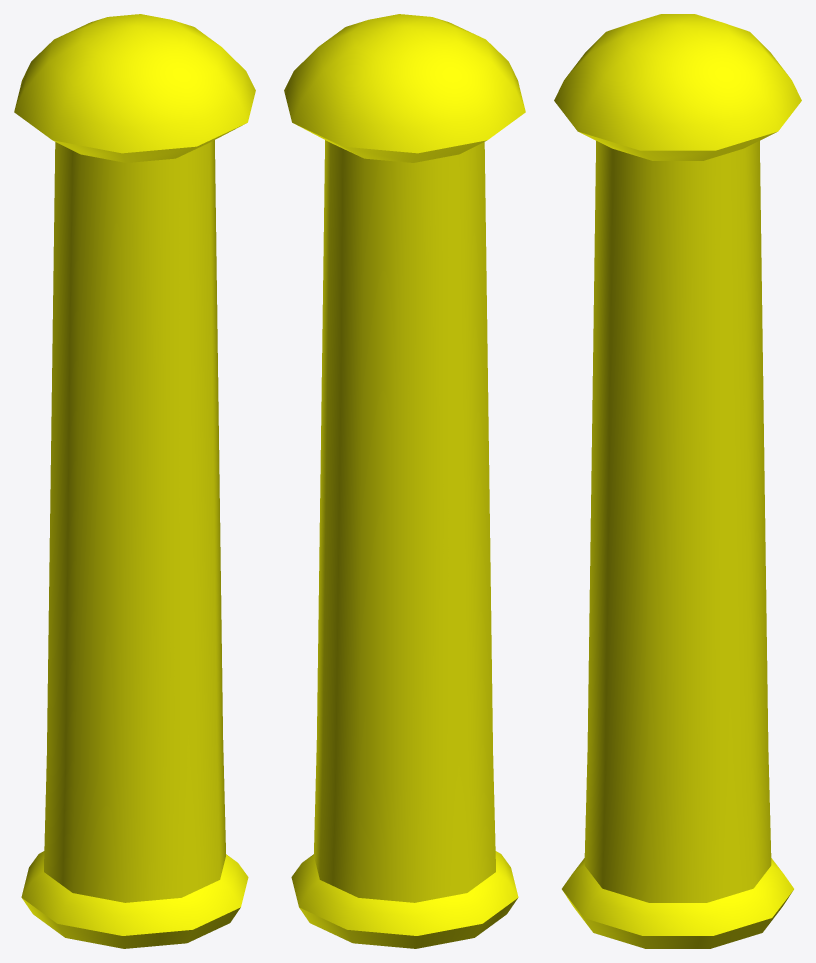
File: prop-bollard.glb
The picture shows the model from 3 angles, left to right: view 1: azimuth 30°, elevation 25°; view 2: azimuth 150°, elevation 25°; view 3: azimuth 270°, elevation 25°; orthographic projection.
Visible parts, largest first — view 1: Prop_Bollard; view 2: Prop_Bollard; view 3: Prop_Bollard.
Boxes of the visible parts, x1,y1,x2,y2 form: Prop_Bollard: (14, 14, 255, 948); Prop_Bollard: (284, 14, 525, 948); Prop_Bollard: (554, 14, 801, 948).
Size of the model in its own units: 0.2163 by 0.8918 by 0.2274.
1 material, 1 textured.
